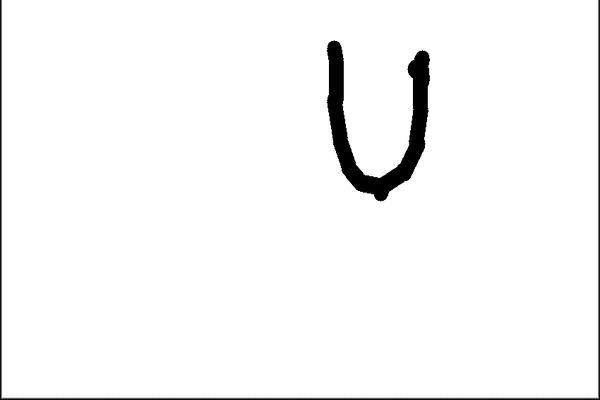U: (317, 35, 435, 203)
